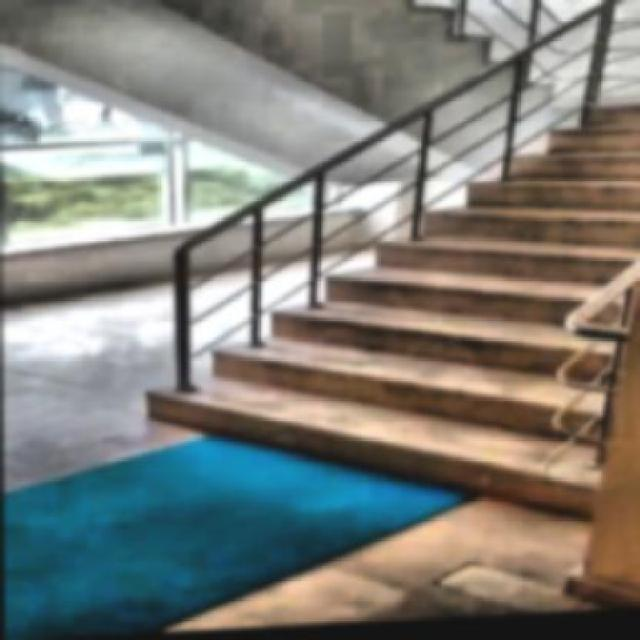stair: (104, 78, 638, 557)
